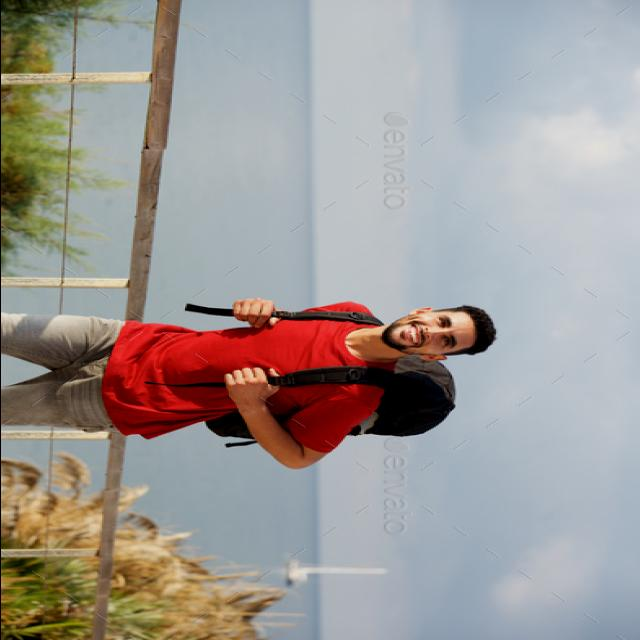backpack: (149, 304, 457, 445)
